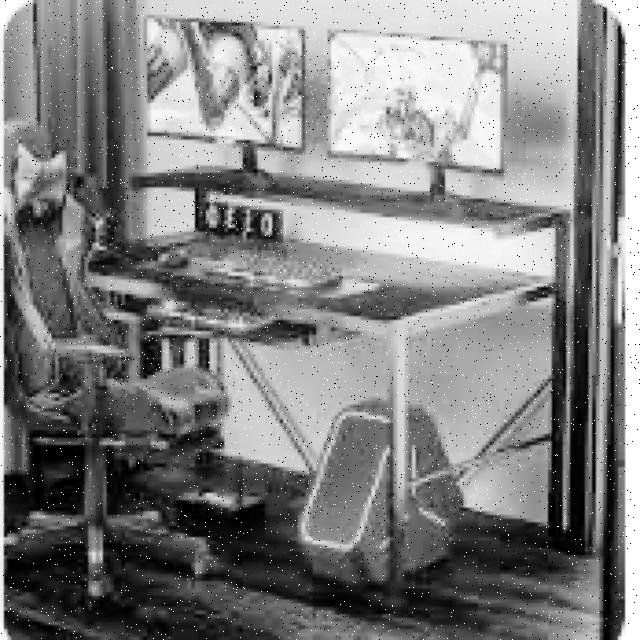table: (88, 184, 574, 603)
